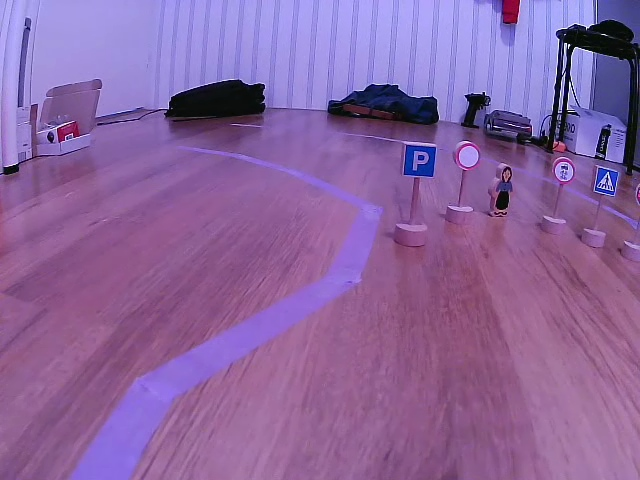fietspad: (553, 157, 577, 187)
mens: (486, 162, 516, 217)
parkeerbord: (400, 141, 437, 181)
wegdicht: (456, 142, 479, 170)
zebrapad: (592, 165, 617, 197)
